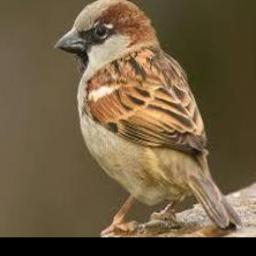Sparrow: (53, 0, 242, 233)
